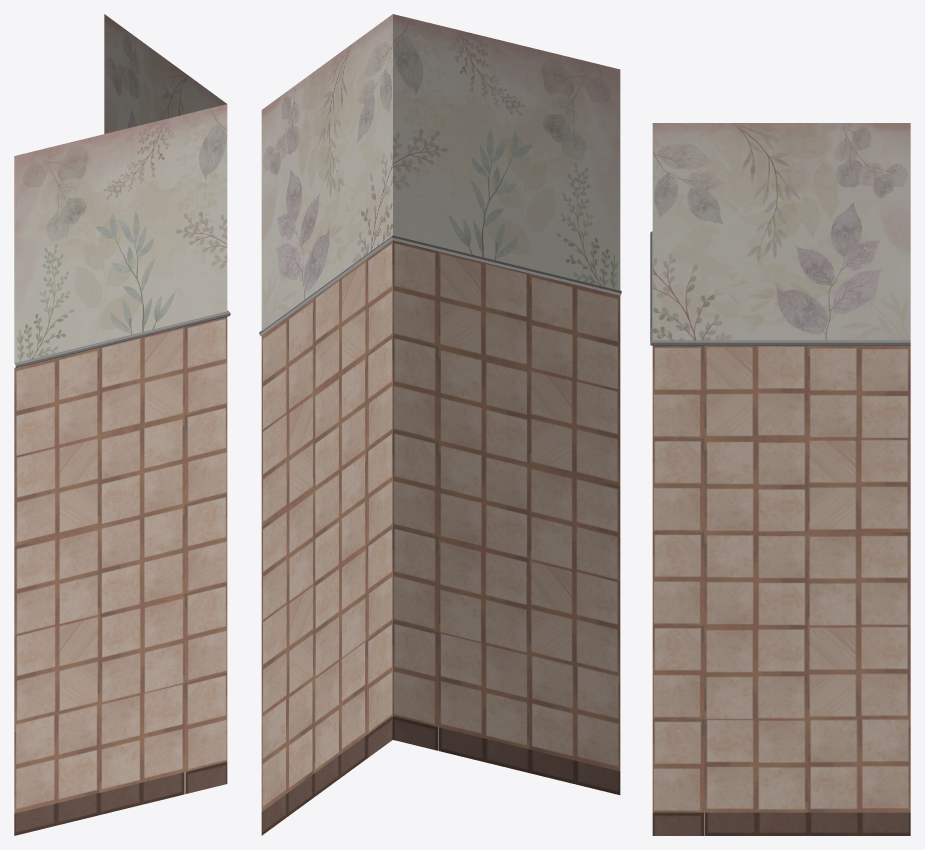
Rendered from MT_BR_OpenCorner.fbx.
The picture shows the model from 3 angles, left to right: view 1: azimuth 30°, elevation 25°; view 2: azimuth 150°, elevation 25°; view 3: azimuth 270°, elevation 25°; orthographic projection. The views are drawn at different scales.
Parts seen in each view (by area): view 1: MT_BR_OpenCorner; view 2: MT_BR_OpenCorner; view 3: MT_BR_OpenCorner.
Part boxes in pixels (x1,y1,x2,y2): MT_BR_OpenCorner: (14, 14, 230, 835); MT_BR_OpenCorner: (259, 14, 621, 835); MT_BR_OpenCorner: (650, 123, 910, 835).
Bounding box in the file's own units: 101 × 305 × 101.
